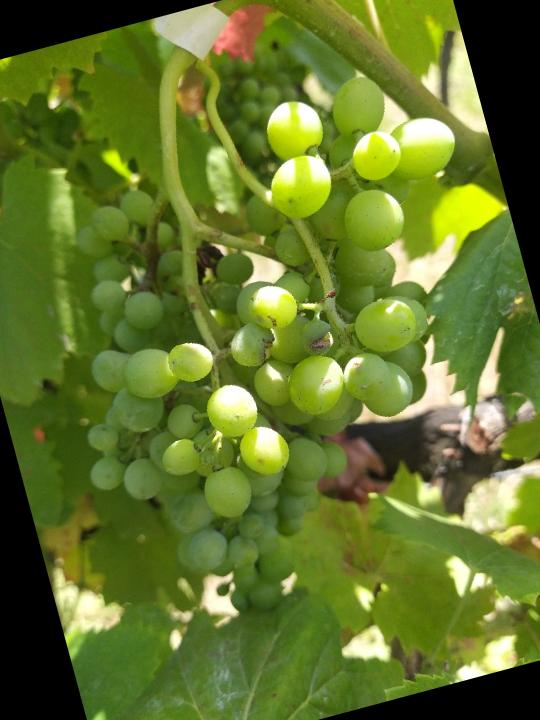grape: (5, 55, 540, 648)
